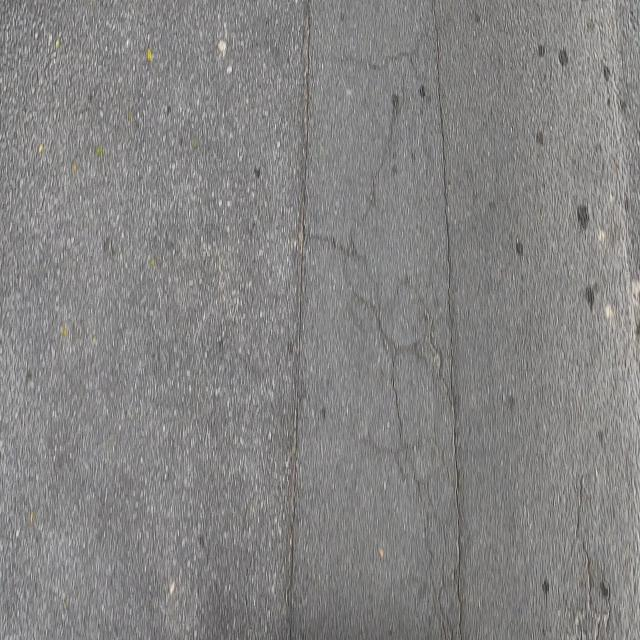Retak-Memanjang: (429, 3, 466, 630), (284, 3, 317, 640), (572, 471, 596, 615)
